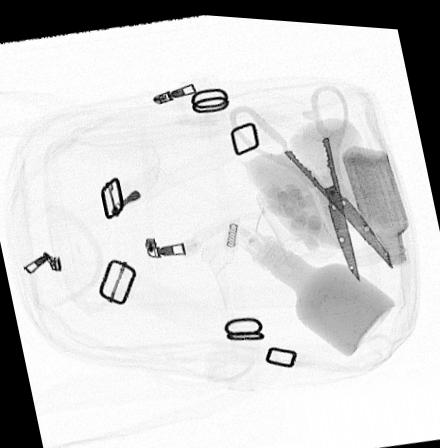Scissors: (226, 75, 391, 277)
